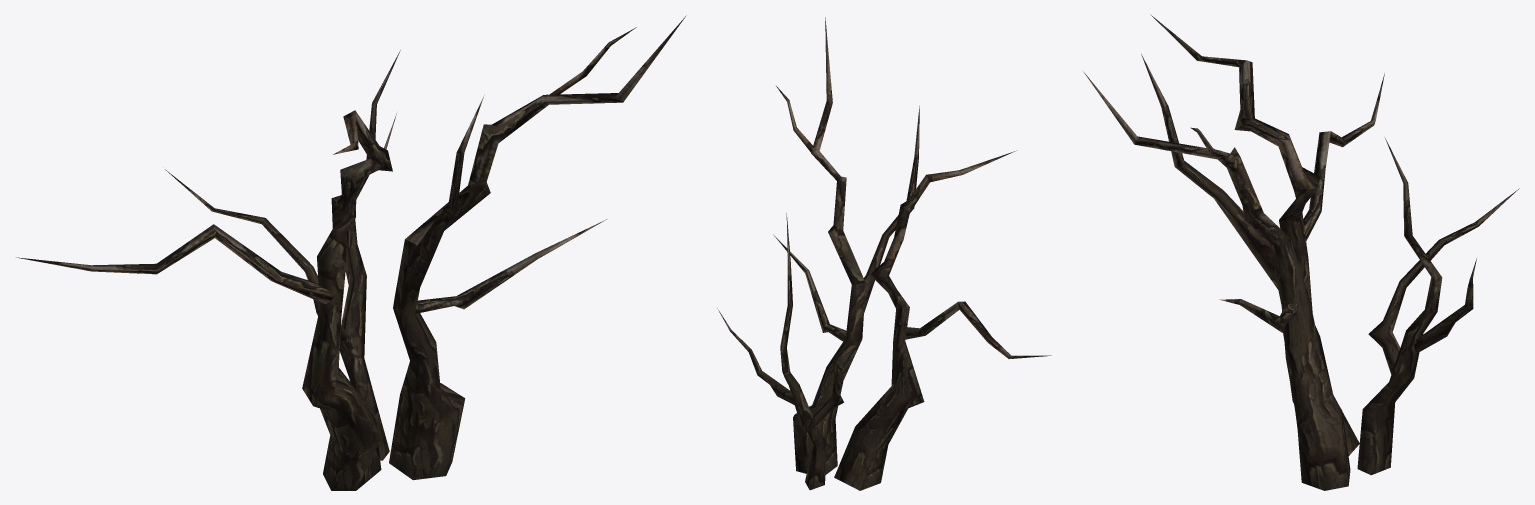
File: C_shu004.fbx
The picture shows the model from 3 angles, left to right: view 1: azimuth 30°, elevation 25°; view 2: azimuth 150°, elevation 25°; view 3: azimuth 270°, elevation 25°; orthographic projection. The views are drawn at different scales.
Visible parts, largest first — view 1: C_shu004; view 2: C_shu004; view 3: C_shu004.
Part boxes in pixels (x1,y1,x2,y2): C_shu004: (16, 15, 686, 490); C_shu004: (717, 17, 1051, 490); C_shu004: (1083, 14, 1519, 490).
Bounding box in the file's own units: 704 × 687 × 590.
